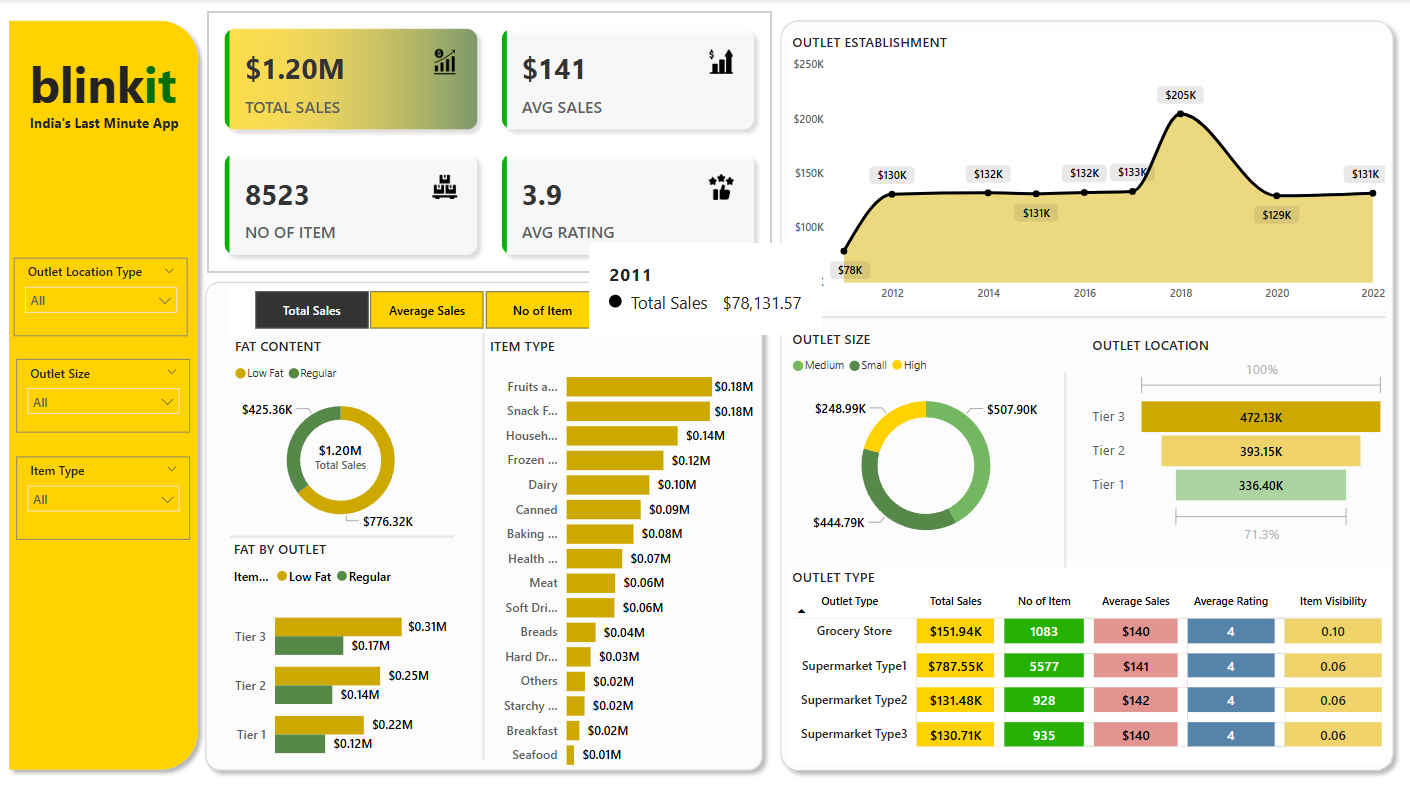

This screenshot's page, from the dashboard's own definition file:
{"tool":"powerbi","page":{"name":"Page 1","canvas":[1400,800],"ordinal":0},"visuals":[{"type":"shape","box":[0,12.6,205.1,760.6],"z":0},{"type":"textbox","box":[14.7,45.6,174.3,73.7],"z":1000},{"type":"textbox","box":[16.1,108.6,174.3,28.2],"z":2000},{"type":"cardVisual","fields":{"Data":["BlinkIT Grocery Data.Total Sales","BlinkIT Grocery Data.Average Sales","BlinkIT Grocery Data.No of Item","BlinkIT Grocery Data.Average Rating"]},"box":[205.1,12.6,558.6,258.8],"z":3000},{"type":"shape","box":[194.1,271.4,569.7,501.8],"z":4000},{"type":"donutChart","title":"FAT CONTENT","fields":{"Y":["BlinkIT Grocery Data.Total Sales"],"Category":["BlinkIT Grocery Data.Item Fat Content"]},"box":[227.6,334,220.2,200.4],"z":5000},{"type":"slicer","fields":{"Values":["Metrics.Metrics"]},"box":[226.3,282,504.6,50.7],"z":6000},{"type":"cardVisual","fields":{"Data":["BlinkIT Grocery Data.Total Sales"]},"box":[257.3,395.8,159.6,113.8],"z":7000},{"type":"clusteredBarChart","title":"FAT BY OUTLET","fields":{"Y":["BlinkIT Grocery Data.Total Sales"],"Category":["BlinkIT Grocery Data.Outlet Location Type"],"Series":["BlinkIT Grocery Data.Item Fat Content"]},"box":[226.3,534.3,221.4,238.7],"z":8000},{"type":"shape","box":[227.6,522,221.4,19.8],"z":9000},{"type":"shape","box":[368.6,330.2,220.2,423],"z":10000},{"type":"barChart","title":"ITEM TYPE","fields":{"Y":["BlinkIT Grocery Data.Total Sales"],"Category":["BlinkIT Grocery Data.Item Type"]},"box":[479.9,334,270.9,439.1],"z":11000},{"type":"shape","box":[763.8,12.6,624.9,760.6],"z":12000},{"type":"lineChart","title":"OUTLET ESTABLISHMENT","fields":{"Y":["BlinkIT Grocery Data.Total Sales"],"Category":["BlinkIT Grocery Data.Outlet Establishment Year"]},"box":[779.5,33.1,596.5,274.6],"z":13000},{"type":"shape","box":[779.5,296.7,596.5,36.3],"z":14000},{"type":"donutChart","title":"OUTLET SIZE","fields":{"Y":["BlinkIT Grocery Data.Total Sales"],"Category":["BlinkIT Grocery Data.Outlet Size"]},"box":[779.5,326.7,274.6,225.7],"z":15000},{"type":"shape","box":[943.7,369.3,220.9,208.3],"z":16000},{"type":"funnel","title":"OUTLET LOCATION","fields":{"Y":["Sum(BlinkIT Grocery Data.Sales)"],"Category":["BlinkIT Grocery Data.Outlet Location Type"]},"box":[1076.2,333,299.8,211.5],"z":17000},{"type":"pivotTable","title":"OUTLET TYPE","fields":{"Rows":["BlinkIT Grocery Data.Outlet Type"],"Values":["BlinkIT Grocery Data.Total Sales","BlinkIT Grocery Data.No of Item","BlinkIT Grocery Data.Average Sales","BlinkIT Grocery Data.Average Rating","Avg(BlinkIT Grocery Data.Item Visibility)"]},"box":[779.5,563.4,596.5,192.5],"z":18000},{"type":"slicer","fields":{"Values":["BlinkIT Grocery Data.Outlet Location Type"]},"box":[14.2,255.6,172,77.3],"z":19000},{"type":"slicer","fields":{"Values":["BlinkIT Grocery Data.Outlet Size"]},"box":[15.8,356.6,172,72.6],"z":19001},{"type":"slicer","fields":{"Values":["BlinkIT Grocery Data.Item Type"]},"box":[15.8,452.9,172,82.1],"z":19002}]}

Visuals, with their boxes in screenshot pixels (x1, y1, x2, y2), scaled from the page's 1400x800 canvas onto the 1410x800 screenshot:
shape: 0:13:207:773
textbox: 15:46:190:119
textbox: 16:109:192:137
cardVisual - BlinkIT Grocery Data.Total Sales x BlinkIT Grocery Data.Average Sales: 207:13:769:271
shape: 195:271:769:773
"FAT CONTENT" donutChart: 229:334:451:534
slicer - Metrics.Metrics: 228:282:736:333
cardVisual - BlinkIT Grocery Data.Total Sales: 259:396:420:510
"FAT BY OUTLET" clusteredBarChart: 228:534:451:773
shape: 229:522:452:542
shape: 371:330:593:753
"ITEM TYPE" barChart: 483:334:756:773
shape: 769:13:1399:773
"OUTLET ESTABLISHMENT" lineChart: 785:33:1386:308
shape: 785:297:1386:333
"OUTLET SIZE" donutChart: 785:327:1062:552
shape: 950:369:1173:578
"OUTLET LOCATION" funnel: 1084:333:1386:544
"OUTLET TYPE" pivotTable: 785:563:1386:756
slicer - BlinkIT Grocery Data.Outlet Location Type: 14:256:188:333
slicer - BlinkIT Grocery Data.Outlet Size: 16:357:189:429
slicer - BlinkIT Grocery Data.Item Type: 16:453:189:535
